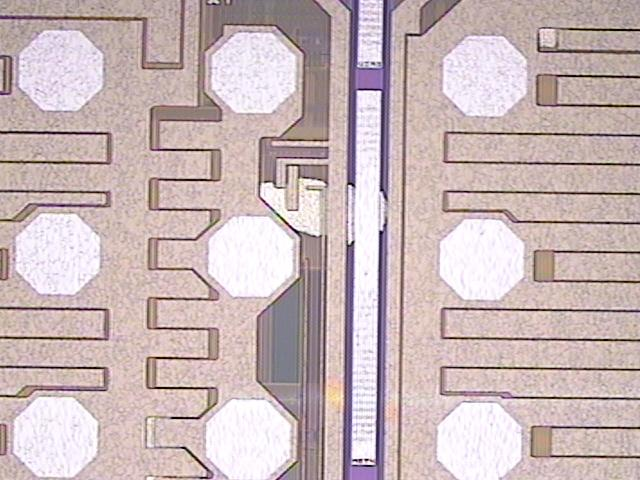COATING BAD: (255, 178, 391, 247)
